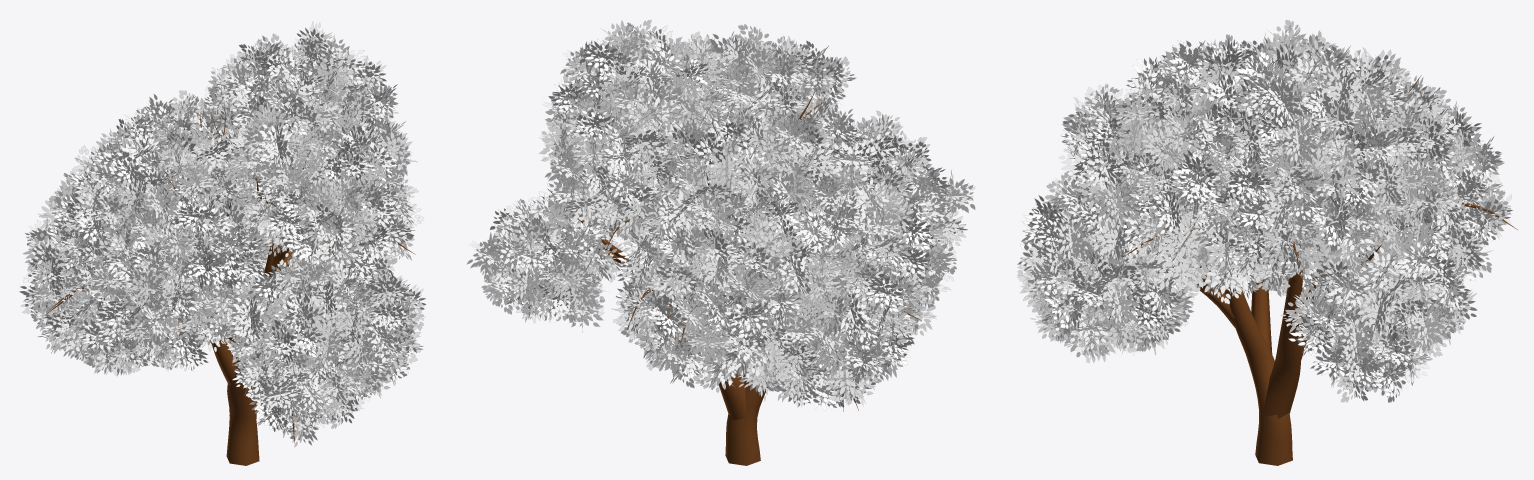
Rendered from fluffy-tree.glb.
The picture shows the model from 3 angles, left to right: view 1: azimuth 30°, elevation 25°; view 2: azimuth 150°, elevation 25°; view 3: azimuth 270°, elevation 25°; orthographic projection. The views are drawn at different scales.
Visible parts, largest first — view 1: NOVA COPA Esfera.001, NOVA COPA Esfera.002, NOVA COPA Esfera.003, Tronco da Árvore.001; view 2: NOVA COPA Esfera.001, NOVA COPA Esfera.002, NOVA COPA Esfera.004, Tronco da Árvore.001; view 3: NOVA COPA Esfera.002, NOVA COPA Esfera.004, NOVA COPA Esfera.003, NOVA COPA Esfera.001, Tronco da Árvore.001.
Boxes of the visible parts, <box> form: NOVA COPA Esfera.001: <box>19,90,276,375</box>; NOVA COPA Esfera.002: <box>204,21,423,271</box>; NOVA COPA Esfera.003: <box>221,246,425,446</box>; Tronco da Árvore.001: <box>45,100,415,465</box>; NOVA COPA Esfera.001: <box>611,106,975,410</box>; NOVA COPA Esfera.002: <box>539,20,855,240</box>; NOVA COPA Esfera.004: <box>467,190,629,332</box>; Tronco da Árvore.001: <box>541,82,921,465</box>; NOVA COPA Esfera.002: <box>1058,38,1456,304</box>; NOVA COPA Esfera.004: <box>1280,228,1477,402</box>; NOVA COPA Esfera.003: <box>1017,169,1210,362</box>; NOVA COPA Esfera.001: <box>1124,20,1512,300</box>; Tronco da Árvore.001: <box>1070,62,1517,465</box>.
Size of the model in its own units: 6.32 by 6.07 by 6.27.
2 materials, 1 textured.
